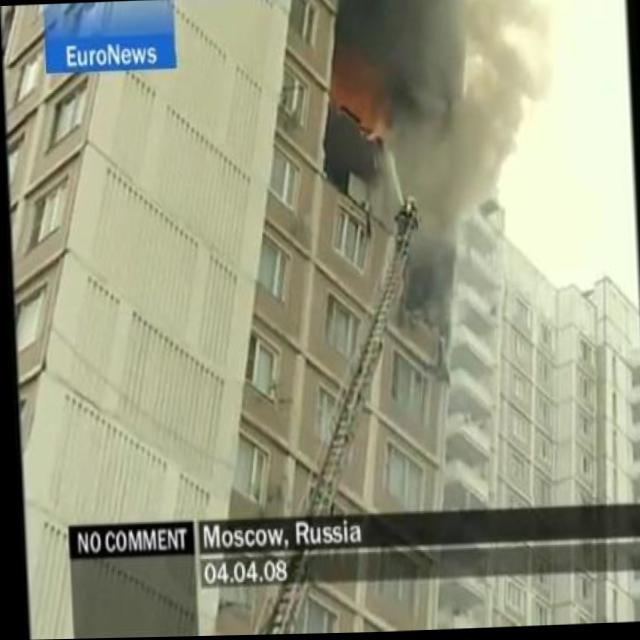fire: (335, 56, 384, 127)
